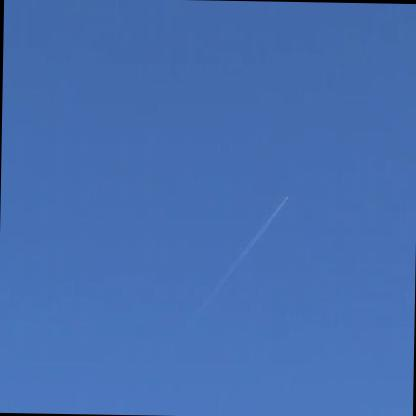plane: (283, 189, 291, 206)
